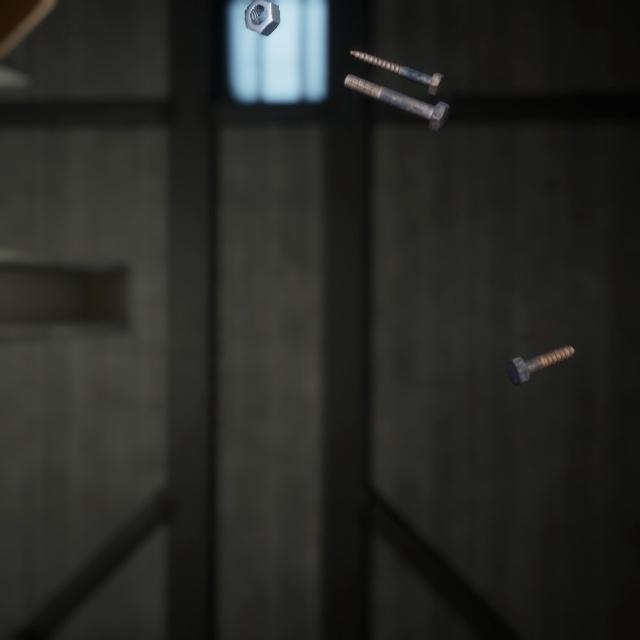bolt: (339, 59, 453, 124), (345, 36, 448, 90), (502, 322, 579, 371)
nut: (240, 0, 284, 32)
